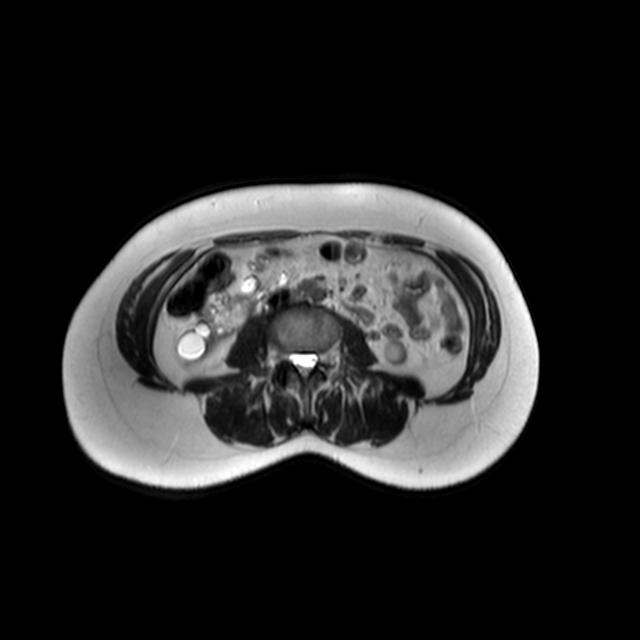sag: (175, 273, 269, 362)
sol: (384, 341, 406, 366)
